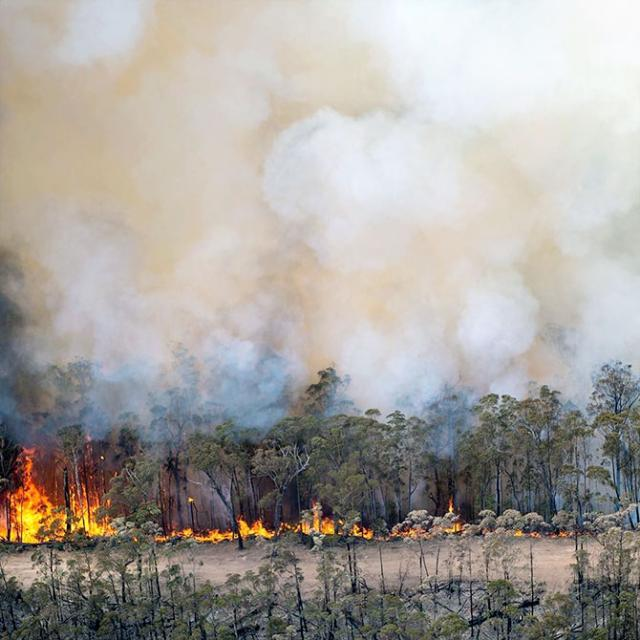Fire: (0, 438, 238, 566), (239, 446, 482, 542)
Smoke: (1, 0, 329, 222), (2, 223, 334, 440), (329, 0, 640, 220), (338, 222, 640, 440)
